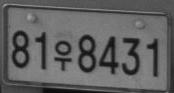1: (144, 38, 166, 77), (32, 30, 52, 69)
3: (120, 37, 140, 76)
4: (97, 35, 119, 74)
8: (76, 34, 96, 74), (11, 29, 30, 68)
우: (52, 39, 72, 71)
